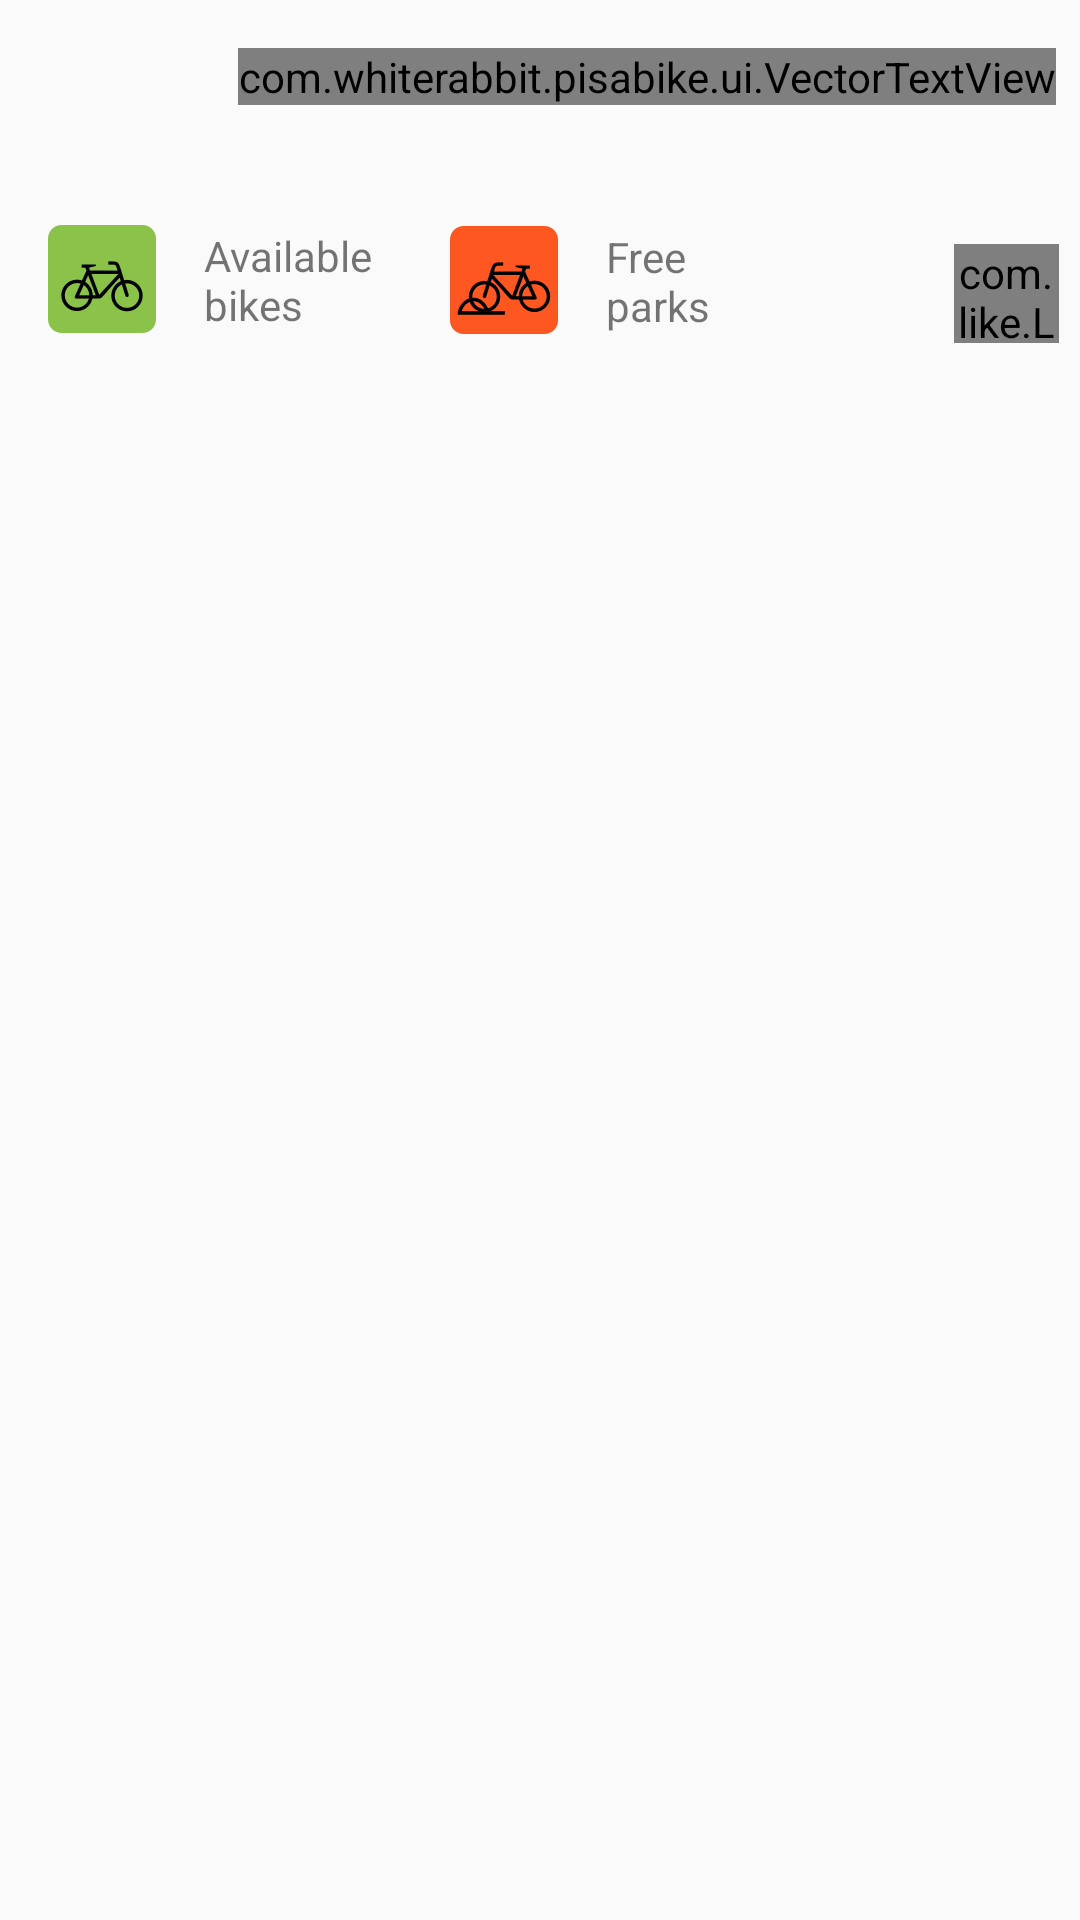

Icon bounding boxes for this 1080*1920 phone screenshot, format (x1, y1, x2, y2):
bike park: (450, 226, 558, 334)
